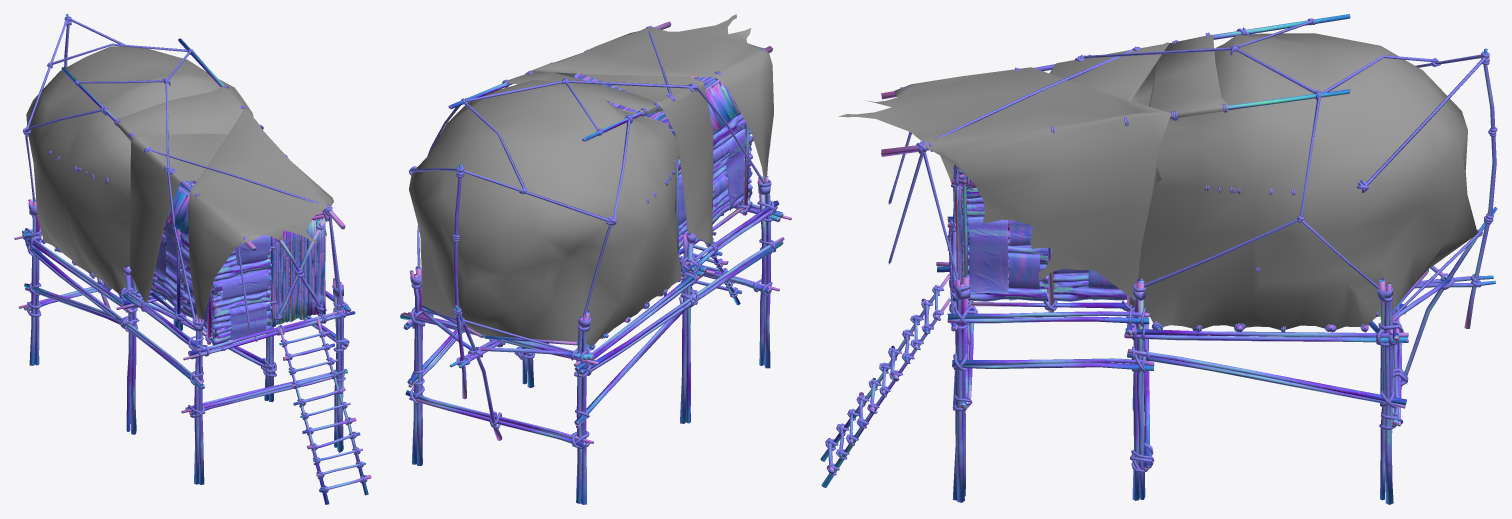
The model's file is House_lods.FBX.
The picture shows the model from 3 angles, left to right: view 1: azimuth 30°, elevation 25°; view 2: azimuth 150°, elevation 25°; view 3: azimuth 270°, elevation 25°; orthographic projection. The views are drawn at different scales.
Visible parts, largest first — view 1: house_lod0; view 2: house_lod0; view 3: house_lod0.
Boxes of the visible parts, x1,y1,x2,y2 form: house_lod0: [14, 14, 371, 504]; house_lod0: [400, 14, 791, 504]; house_lod0: [820, 14, 1497, 504].
Size of what is drawn, in the model's own units: 4.34 by 6.59 by 9.77.
